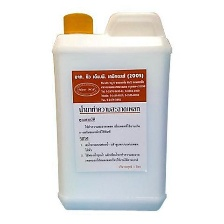cleaning_solution: (48, 6, 173, 215)
